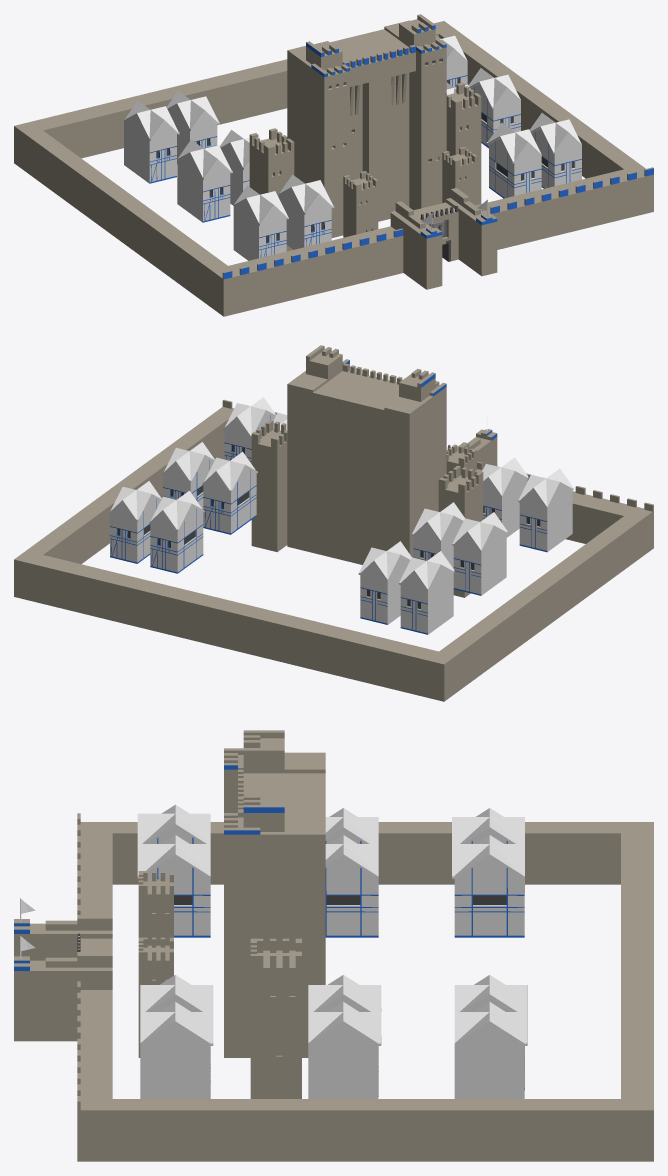
Rendered from Lord's Farquaad Castle.gltf.
3 renders of one model, top to bottom at view 1: azimuth 30°, elevation 25°; view 2: azimuth 150°, elevation 25°; view 3: azimuth 270°, elevation 25°, orthographic. The views are drawn at different scales.
Parts seen in each view (by area): view 1: Cube.003_3, Cube_0, Cube.010_11, Cube.012_13, Cube.008_9, Cube.014_15, Cube.007_8, Cube.013_14, Cube.020_21, Cube.019_20, Cube.015_16, Cube.011_12 (+4 smaller); view 2: Cube.003_3, Cube_0, Cube.019_20, Cube.012_13, Cube.008_9, Cube.010_11, Cube.016_17, Cube.018_19, Cube.011_12, Cube.017_18, Cube.007_8, Cube.015_16 (+4 smaller); view 3: Cube.003_3, Cube_0, Cube.019_20, Cube.011_12, Cube.017_18, Cube.013_14, Cube.015_16, Cube.009_10, Cube.007_8, Cube.001_1, Cube.008_9, Cube.018_19 (+5 smaller).
Boxes of the visible parts, x1,y1,x2,y2 form: Cube.003_3: [14, 21, 653, 316]; Cube_0: [287, 14, 446, 237]; Cube.010_11: [177, 139, 232, 222]; Cube.012_13: [124, 101, 179, 183]; Cube.008_9: [233, 185, 288, 260]; Cube.014_15: [486, 122, 541, 198]; Cube.007_8: [278, 174, 334, 249]; Cube.013_14: [529, 113, 581, 188]; Cube.020_21: [249, 128, 294, 251]; Cube.019_20: [446, 82, 481, 204]; Cube.015_16: [468, 68, 520, 148]; Cube.011_12: [166, 91, 219, 164]; Cube.003_3: [14, 399, 653, 701]; Cube_0: [287, 345, 446, 564]; Cube.019_20: [251, 420, 287, 552]; Cube.012_13: [399, 551, 454, 634]; Cube.008_9: [518, 468, 573, 552]; Cube.010_11: [452, 512, 507, 595]; Cube.016_17: [202, 451, 257, 534]; Cube.018_19: [149, 490, 204, 573]; Cube.011_12: [358, 541, 411, 624]; Cube.017_18: [109, 481, 161, 563]; Cube.007_8: [482, 457, 528, 537]; Cube.015_16: [162, 442, 214, 509]; Cube.003_3: [14, 813, 653, 1161]; Cube_0: [224, 730, 325, 1057]; Cube.019_20: [250, 938, 301, 1098]; Cube.011_12: [452, 835, 524, 937]; Cube.017_18: [454, 1002, 527, 1098]; Cube.013_14: [140, 1002, 213, 1098]; Cube.015_16: [308, 1002, 381, 1098]; Cube.009_10: [325, 835, 378, 937]; Cube.007_8: [137, 835, 210, 937]; Cube.001_1: [138, 871, 173, 945]; Cube.008_9: [137, 804, 210, 843]; Cube.018_19: [454, 975, 527, 1011].
Size of the model in its own units: 38.78 by 16.97 by 36.37.
